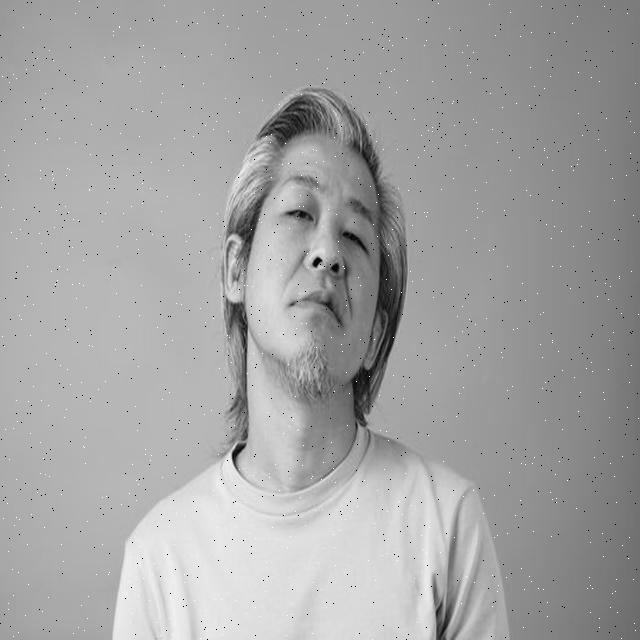Disgust: (245, 136, 381, 404)
